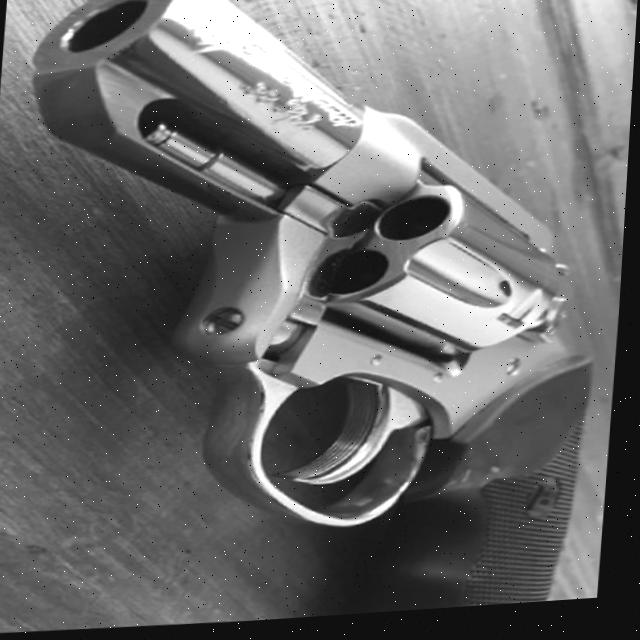pistol: (0, 0, 625, 638)
